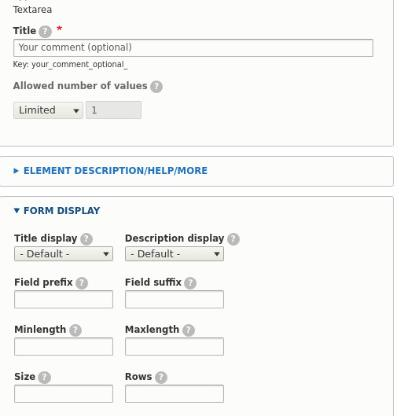field: (11, 37, 375, 59), (12, 336, 115, 357), (125, 384, 226, 405), (12, 290, 114, 310), (123, 337, 224, 357), (13, 384, 113, 404), (12, 244, 114, 263), (124, 290, 226, 309), (124, 245, 226, 263), (12, 101, 86, 119), (86, 100, 145, 121)
field_with_label: (10, 24, 379, 62), (9, 277, 116, 312), (123, 370, 227, 406), (122, 276, 228, 311), (122, 231, 229, 265), (12, 371, 115, 406), (10, 324, 116, 358), (8, 232, 114, 265), (123, 324, 225, 358)
